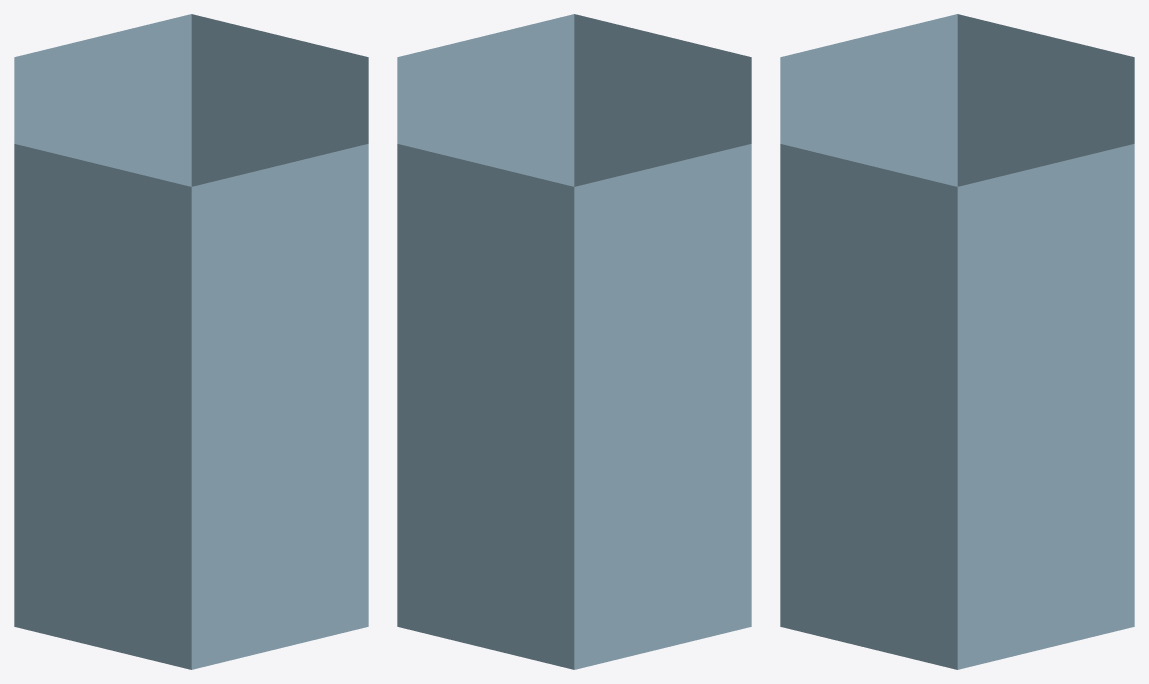
Rendered from FairyTale280.gltf.
3 views of the same model, side by side, from view 1: azimuth 30°, elevation 25°; view 2: azimuth 150°, elevation 25°; view 3: azimuth 270°, elevation 25° (orthographic).
Visible parts, largest first — view 1: 网格.269_1; view 2: 网格.269_1; view 3: 网格.269_1.
Part boxes in pixels (bbox=[...]): 网格.269_1: bbox=[14, 14, 368, 669]; 网格.269_1: bbox=[397, 14, 751, 669]; 网格.269_1: bbox=[780, 14, 1134, 669].
Size of the model in its own units: 0.2328 by 0.3031 by 0.2016.
